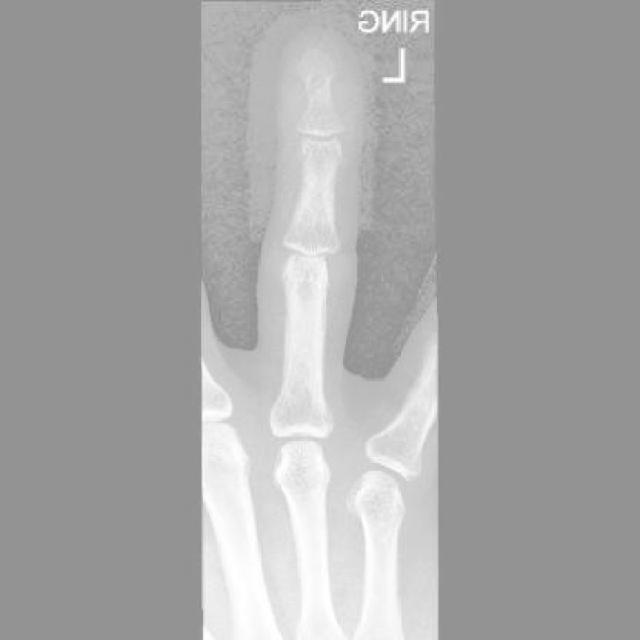Fracture: (294, 40, 348, 102)
